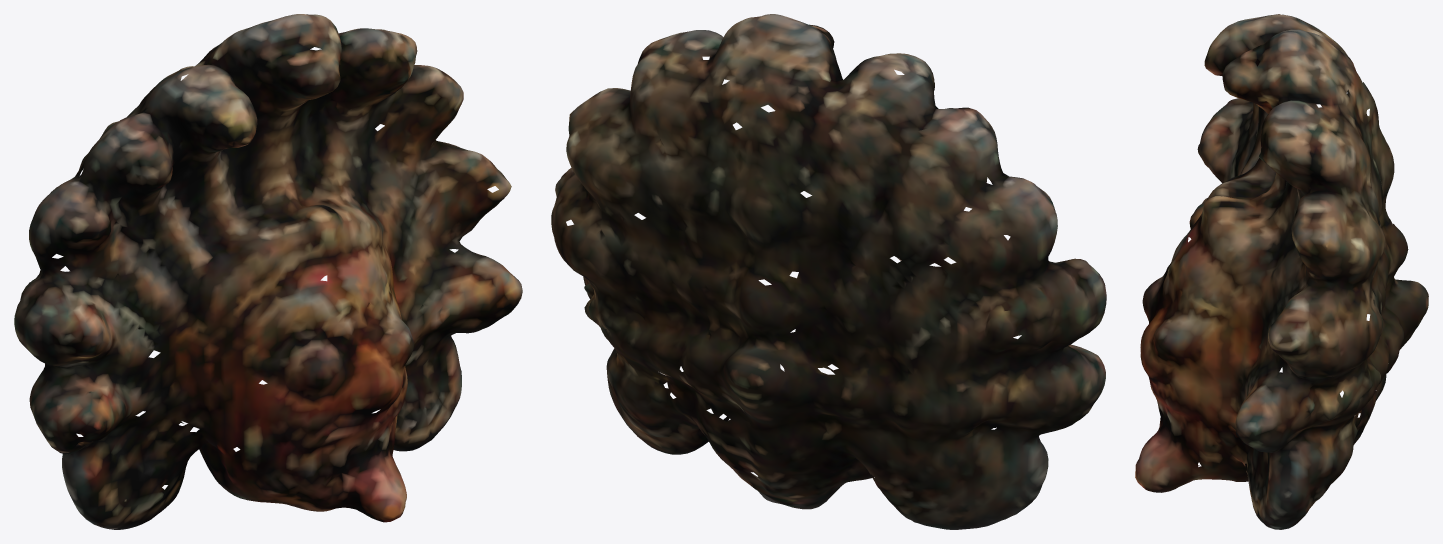
File: naga-raksha.glb
3 views of the same model, side by side, from view 1: azimuth 30°, elevation 25°; view 2: azimuth 150°, elevation 25°; view 3: azimuth 270°, elevation 25° (orthographic). The views are drawn at different scales.
Visible parts, largest first — view 1: geometry_0; view 2: geometry_0; view 3: geometry_0.
Boxes of the visible parts, <box> form: geometry_0: <box>14,14,522,529</box>; geometry_0: <box>551,14,1106,529</box>; geometry_0: <box>1135,14,1428,529</box>.
Bounding box in the file's own units: 1.02 × 0.9137 × 0.5366.
